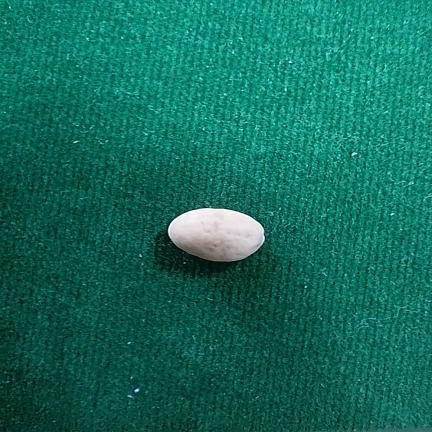immature: (167, 208, 264, 262)
